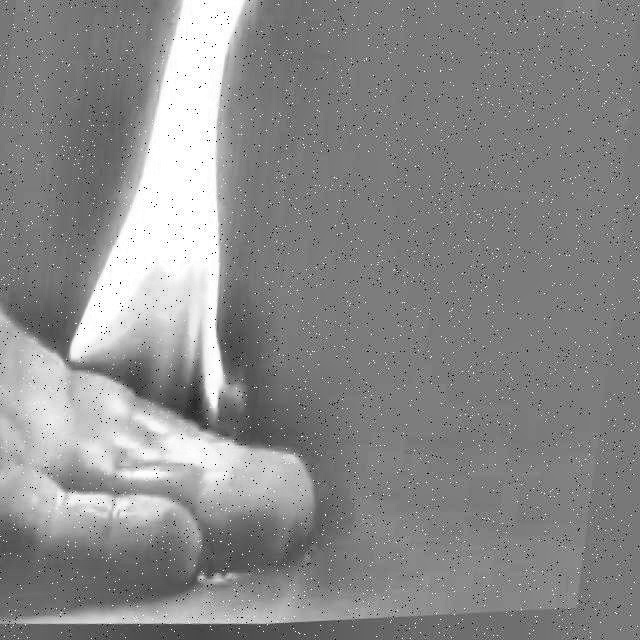Fire: (59, 0, 283, 443)
